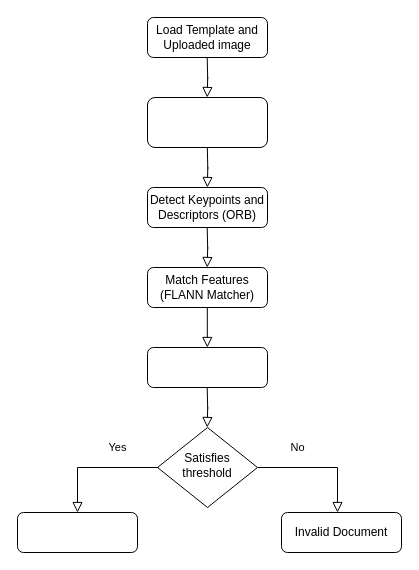
Some shapes in this 419 by 570 pixel diagram are drawn without their labels. The shapes that lost their labels are listed below. From the top down, each one's centre as x and y in pixels, then its label:
At point (207, 122): "Convert to Greyscale".
At point (207, 367): "Filter Matches (Lowe's Ratio Test)".
At point (77, 532): "Valid Document".
